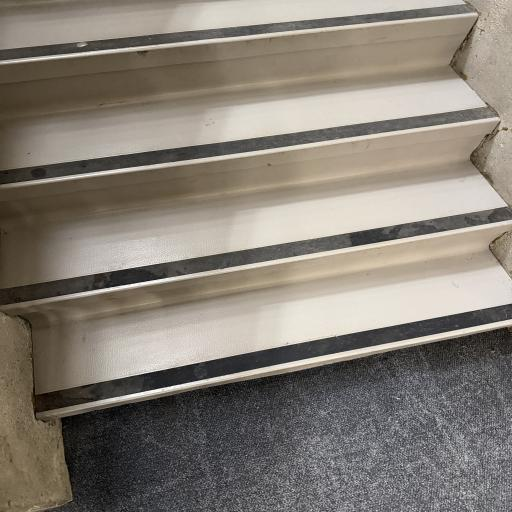Stairs: (0, 0, 512, 419)
